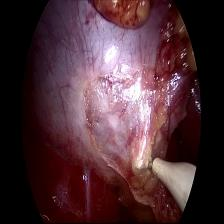Hook: (133, 150, 196, 207)
